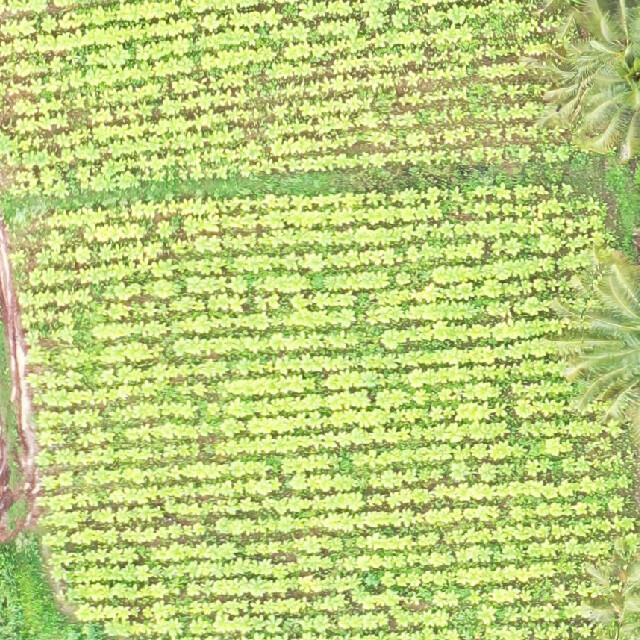tobacco: (0, 158, 598, 640), (12, 183, 640, 640), (0, 0, 577, 194)
